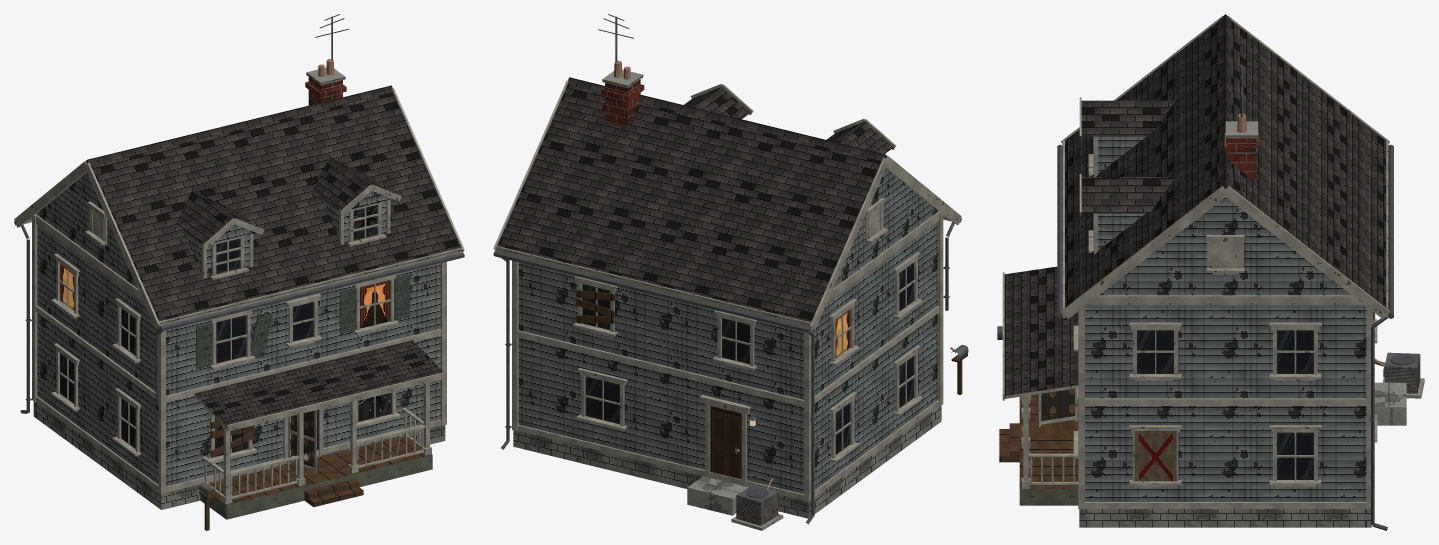
Rendered from house_c.glb.
3 renders of one model, left to right at view 1: azimuth 30°, elevation 25°; view 2: azimuth 150°, elevation 25°; view 3: azimuth 270°, elevation 25°, orthographic. The views are drawn at different scales.
Parts seen in each view (by area): view 1: detail, shell-col; view 2: detail, shell-col; view 3: detail, shell-col.
Part boxes in pixels (x1,y1,x2,y2): detail: (14, 14, 464, 530); shell-col: (33, 225, 445, 519); detail: (493, 14, 968, 530); shell-col: (513, 222, 941, 518); detail: (997, 14, 1424, 530); shell-col: (999, 305, 1406, 527).
Size of the model in its own units: 9.82 by 11.74 by 10.39.
27 materials, 27 textured.
